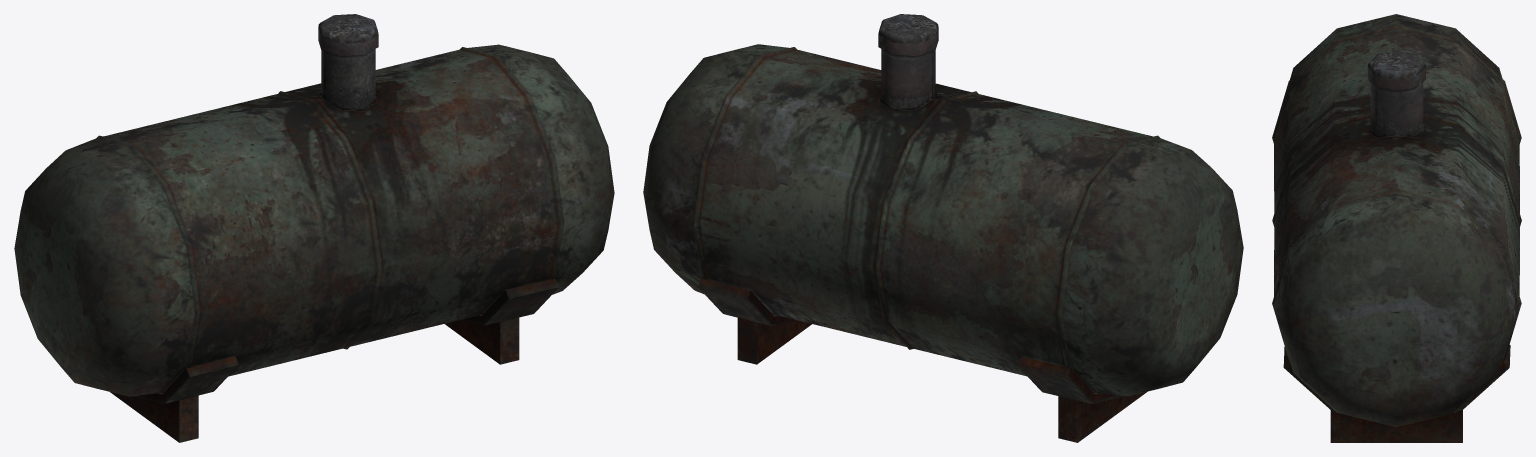
The model's file is OilTank.FBX.
3 views of the same model, side by side, from view 1: azimuth 30°, elevation 25°; view 2: azimuth 150°, elevation 25°; view 3: azimuth 270°, elevation 25° (orthographic). The views are drawn at different scales.
Parts seen in each view (by area): view 1: OilTank; view 2: OilTank; view 3: OilTank.
Boxes of the visible parts, box(x1,y1,x2,y2) form: OilTank: box(14, 14, 614, 442); OilTank: box(643, 14, 1243, 442); OilTank: box(1272, 14, 1521, 442).
Size of the model in its own units: 316 by 200 by 142.
Materials: 1 (1 with a texture image).
